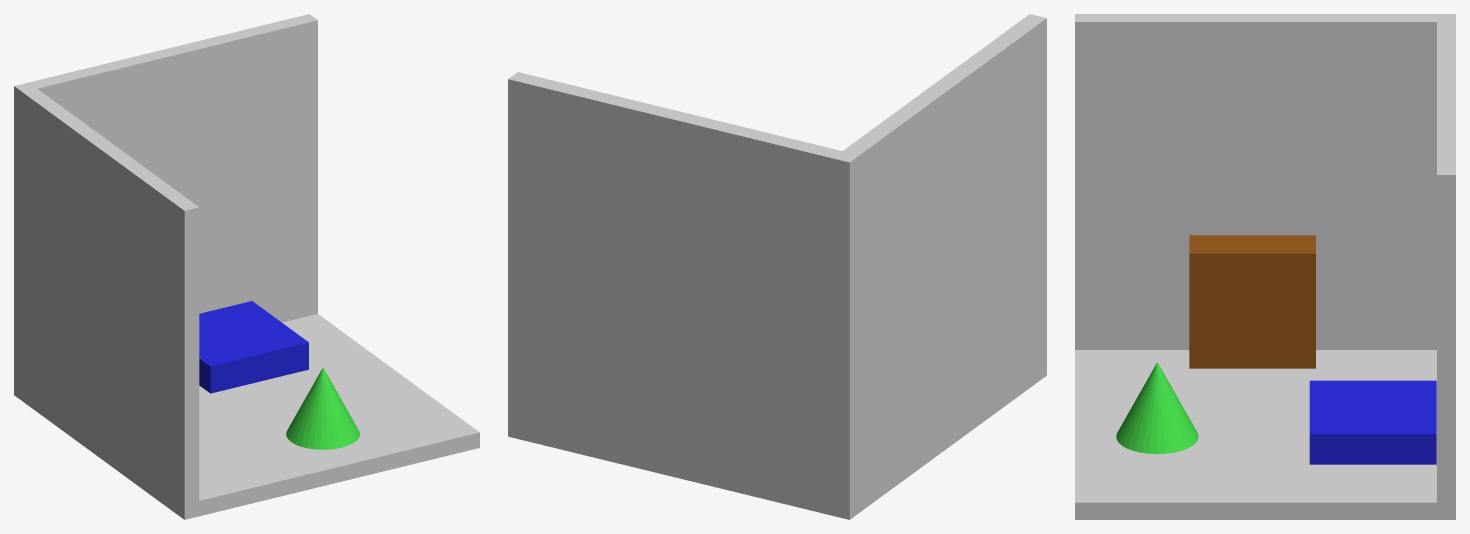
3 renders of one model, left to right at view 1: azimuth 30°, elevation 25°; view 2: azimuth 150°, elevation 25°; view 3: azimuth 270°, elevation 25°, orthographic. The views are drawn at different scales.
Visible parts, largest first — view 1: Cube, Bed, Cone; view 2: Cube; view 3: Cube, Closet, Bed, Cone.
Part boxes in pixels (x1,y1,x2,y2): Cube: [14, 14, 479, 519]; Bed: [199, 301, 308, 393]; Cone: [286, 367, 359, 449]; Cube: [508, 14, 1046, 519]; Cube: [1075, 14, 1455, 519]; Closet: [1189, 235, 1315, 368]; Bed: [1309, 380, 1436, 464]; Cone: [1116, 362, 1198, 454].
Size of the model in its own units: 6 by 6 by 6.
